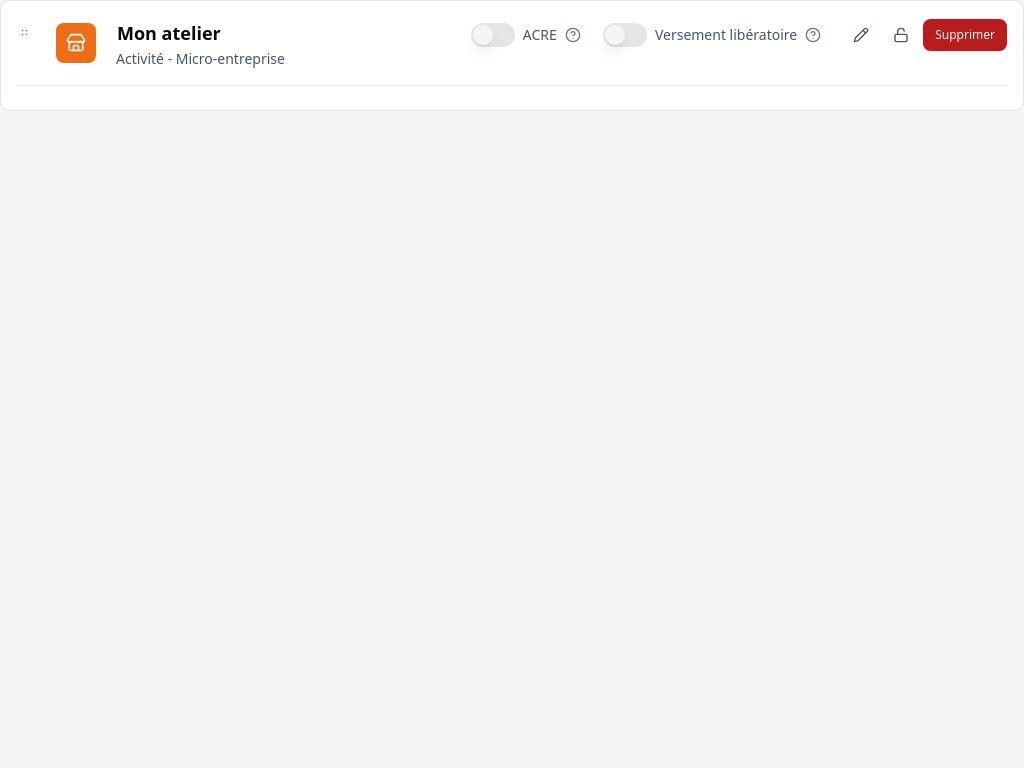
Test: EntityItem : réglages rapides › explique l'ACRE au clavier ou au toucher, avec les règles de l'année affichée et la page de ses conditions
Step 1. Click the button named "Qu'est-ce que l'ACRE ?" → (573, 35), box [559, 21, 587, 49]
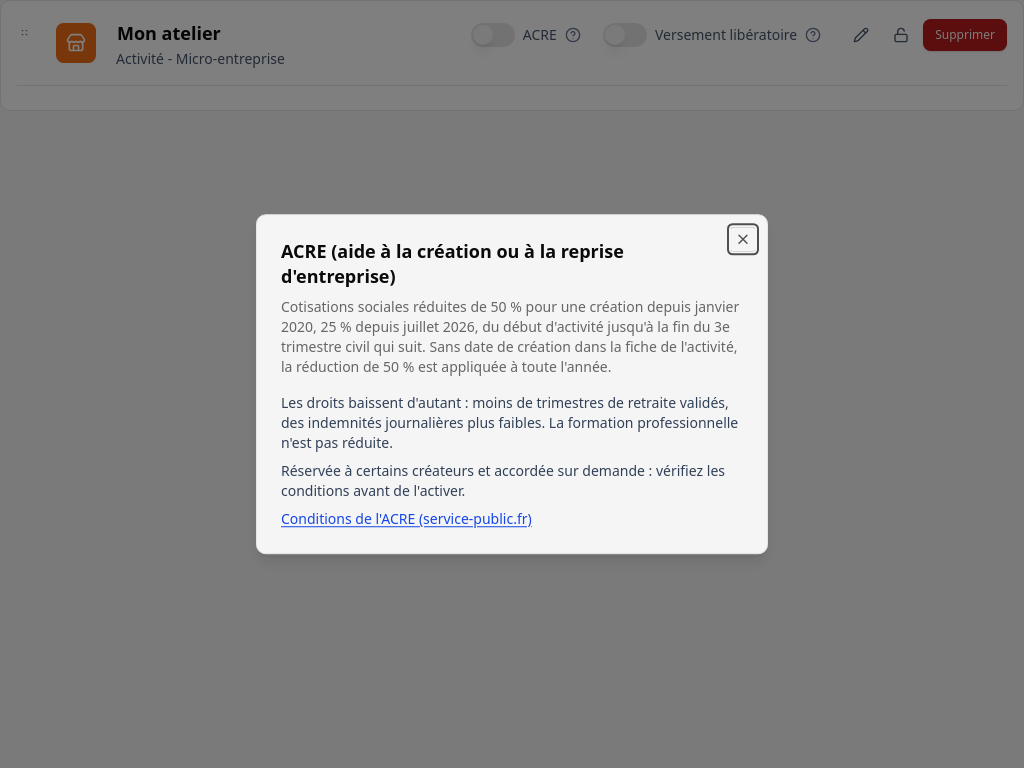
Expected: the dialog "ACRE (aide à la création ou à la reprise d'entreprise)" shows "fin du 3e trimestre civil", [281, 297, 739, 376]
